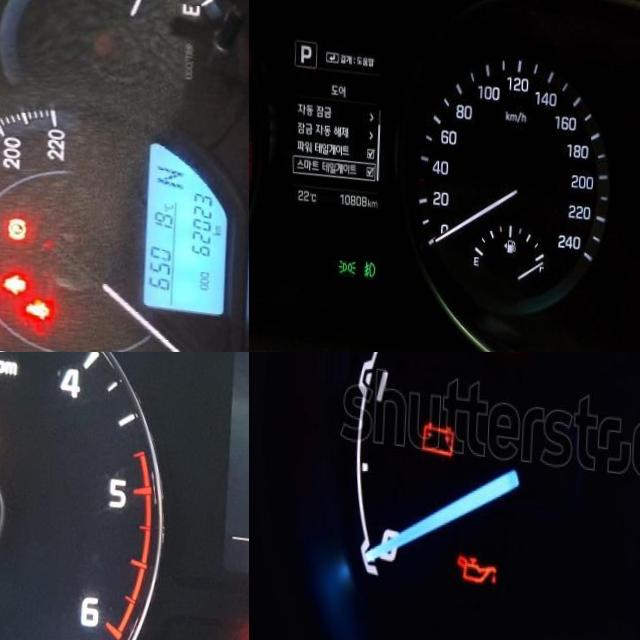FrontFogLight: (366, 251, 380, 271)
Seat Belt: (26, 291, 54, 314)
SideLamp: (342, 250, 360, 267)
